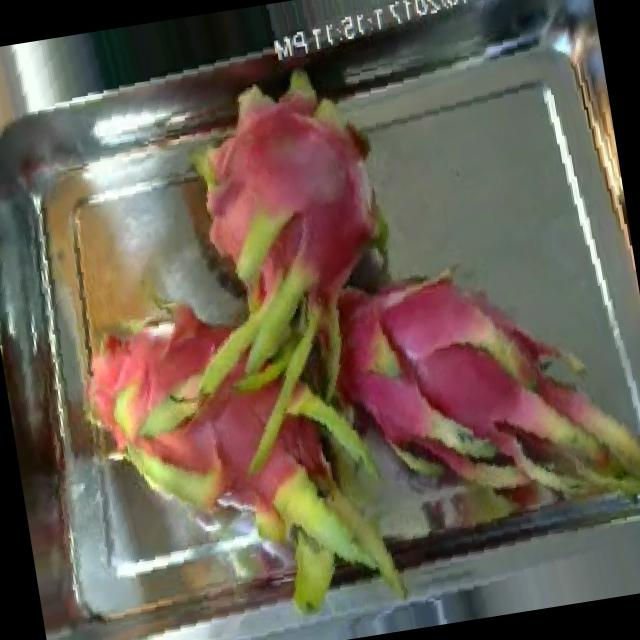Fruit: (0, 40, 59, 183)
